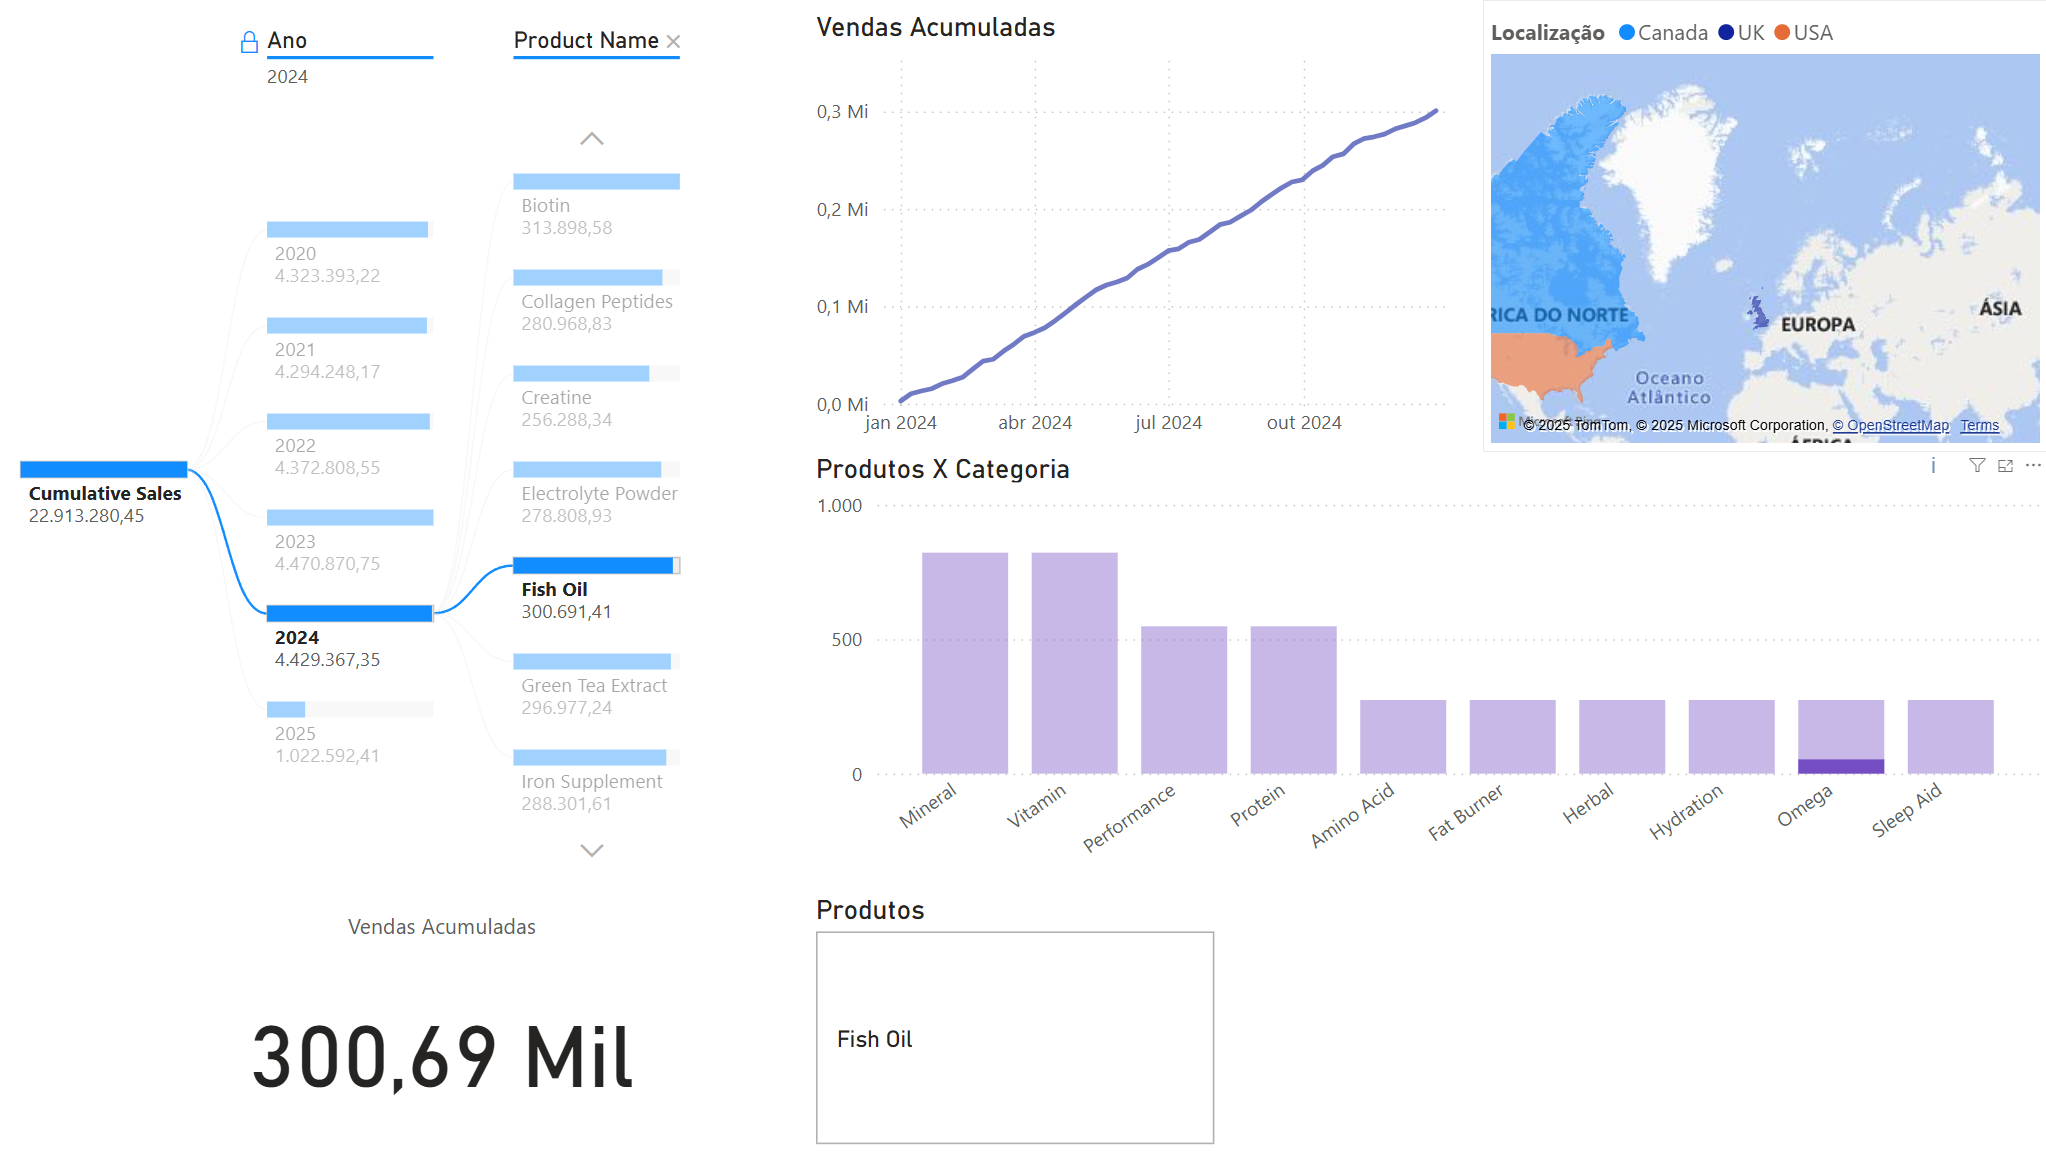

The page's visual inventory and layout, read from the dashboard file:
{"tool":"powerbi","page":{"name":"Página 1","canvas":[1280,720],"ordinal":0},"visuals":[{"type":"columnChart","title":"Produtos X Categoria","fields":{"Category":["Supplement_Sales_Weekly_Expanded.Category"],"Y":["CountNonNull(Supplement_Sales_Weekly_Expanded.Product Name)"]},"box":[505.5,282.8,774.7,275],"z":0},{"type":"lineChart","title":"Vendas Acumuladas","fields":{"Category":["Supplement_Sales_Weekly_Expanded.Date"],"Y":["Supplement_Sales_Weekly_Expanded.Cumulative Sales"]},"box":[505.6,6.2,421.9,276.2],"z":2},{"type":"decompositionTreeVisual","fields":{"Analyze":["Supplement_Sales_Weekly_Expanded.Cumulative Sales"],"ExplainBy":["Supplement_Sales_Weekly_Expanded.Date.Variation.Hierarquia de datas.Ano","Supplement_Sales_Weekly_Expanded.Product Name"]},"box":[0,0,505.5,565],"z":4},{"type":"card","fields":{"Values":["Supplement_Sales_Weekly_Expanded.Cumulative Sales"]},"box":[119.4,565,315,155],"z":5},{"type":"advancedSlicerVisual","title":"Produtos","fields":{"Values":["Supplement_Sales_Weekly_Expanded.Product Name"]},"box":[505.5,557.8,774.7,162.2],"z":6},{"type":"filledMap","title":"Localização","fields":{"Series":["Supplement_Sales_Weekly_Expanded.Location"],"Category":["Supplement_Sales_Weekly_Expanded.Location"]},"box":[927.3,0,352.9,282.8],"z":7}]}

Visuals, with their boxes in screenshot pixels (x1, y1, x2, y2), scaled from the page's 1280x720 canvas onto the 2046x1151 screenshot:
"Produtos X Categoria" columnChart: bbox=(808, 452, 2045, 892)
"Vendas Acumuladas" lineChart: bbox=(808, 10, 1483, 451)
decompositionTreeVisual - Supplement_Sales_Weekly_Expanded.Cumulative Sales x Supplement_Sales_Weekly_Expanded.Date.Variation.Hierarquia de datas.Ano: bbox=(0, 0, 808, 903)
card - Supplement_Sales_Weekly_Expanded.Cumulative Sales: bbox=(191, 903, 694, 1150)
"Produtos" advancedSlicerVisual: bbox=(808, 892, 2045, 1150)
"Localização" filledMap: bbox=(1482, 0, 2045, 452)
